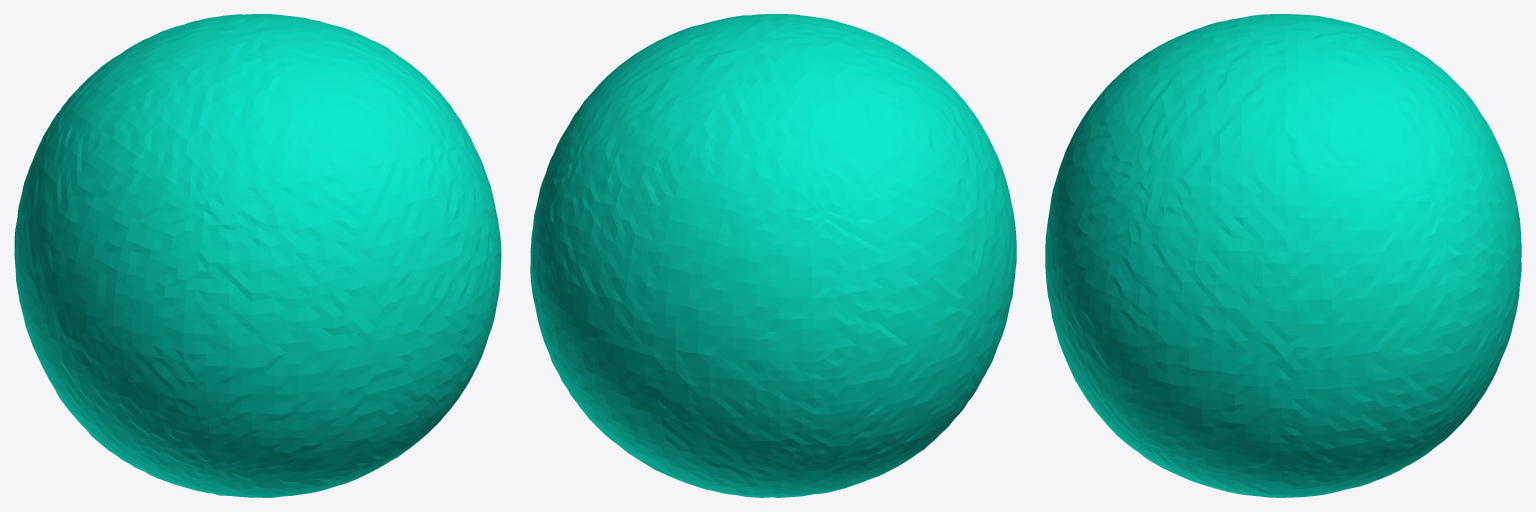
Rendered from Sea12.fbx.
3 views of the same model, side by side, from view 1: azimuth 30°, elevation 25°; view 2: azimuth 150°, elevation 25°; view 3: azimuth 270°, elevation 25° (orthographic).
Visible parts, largest first — view 1: pCube1; view 2: pCube1; view 3: pCube1.
Boxes of the visible parts, box(x1,y1,x2,y2) form: pCube1: box(14, 14, 501, 497); pCube1: box(530, 14, 1016, 497); pCube1: box(1045, 14, 1521, 497).
Bounding box in the file's own units: 40.22 × 40.21 × 40.2.
